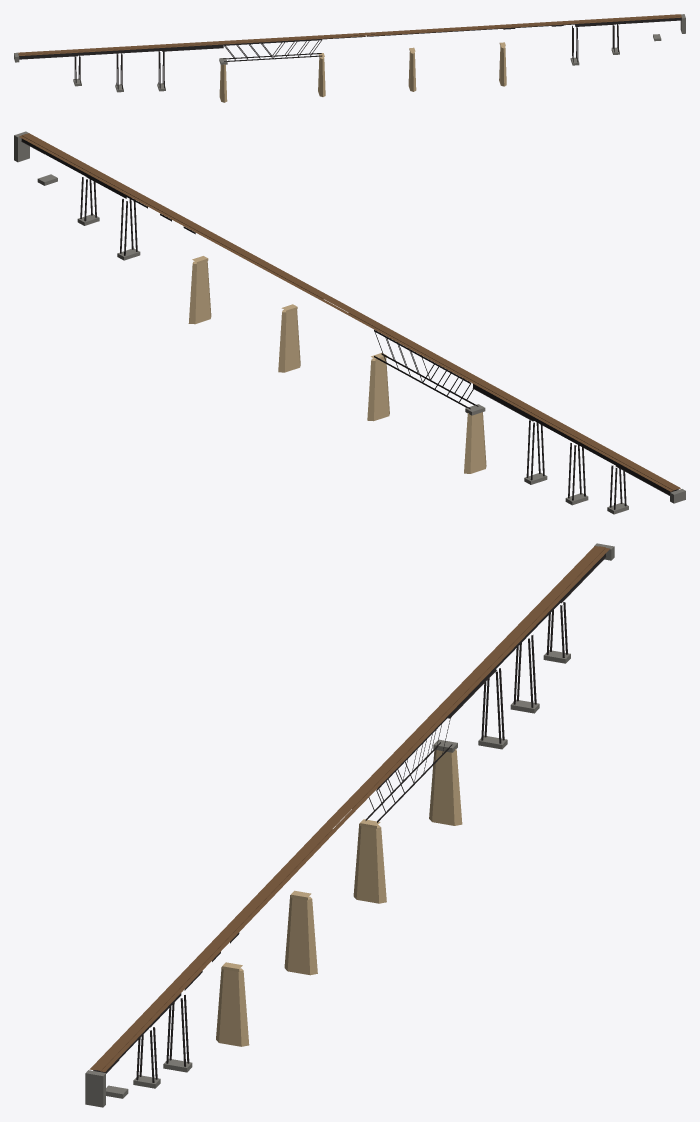
File: br_r22_clover_bar_railway_lod2.gltf
The picture shows the model from 3 angles, top to bottom: view 1: azimuth 30°, elevation 25°; view 2: azimuth 150°, elevation 25°; view 3: azimuth 270°, elevation 25°; orthographic projection. The views are drawn at different scales.
Visible parts, largest first — view 1: br_r22_clover_bar_railway_lod2; view 2: br_r22_clover_bar_railway_lod2; view 3: br_r22_clover_bar_railway_lod2.
Part boxes in pixels (x1=…): br_r22_clover_bar_railway_lod2: x1=14, y1=14, x2=685, y2=102; br_r22_clover_bar_railway_lod2: x1=14, y1=131, x2=685, y2=514; br_r22_clover_bar_railway_lod2: x1=85, y1=543, x2=614, y2=1107.
Bounding box in the file's own units: 476 × 47.2 × 200.
